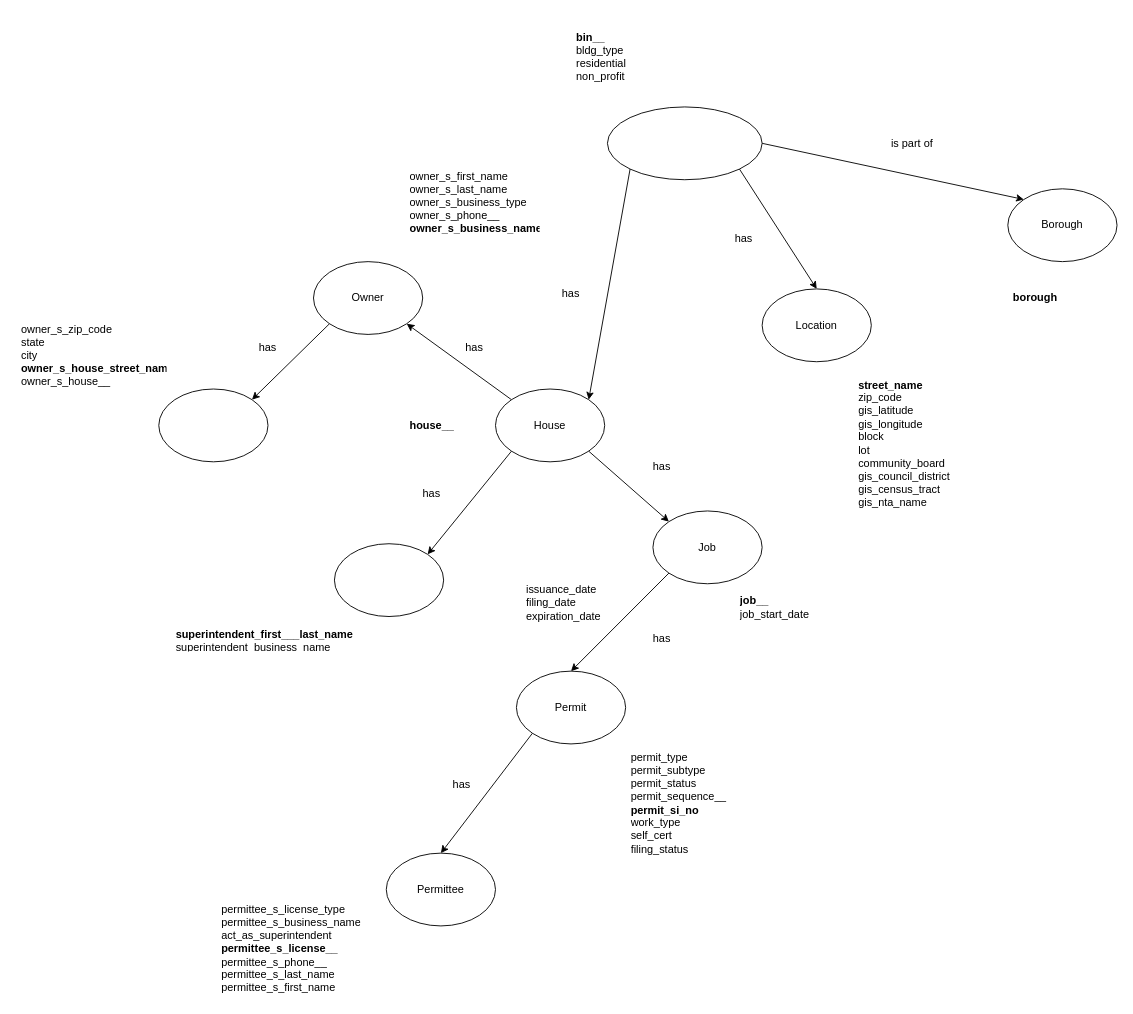
The diagram is 1133 pixels wide and 1014 high, and some of its shapes have lost their labels. Here are the shapes that lost their labels. From the top down, the centre of each, then its label:
the point at 684,143: Building
the point at 213,425: Address
the point at 389,580: SuperIntendent
